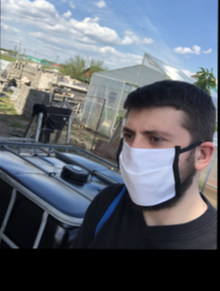with_mask: (115, 121, 184, 209)
